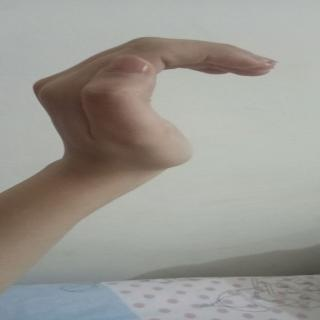HAA: (30, 22, 287, 182)
